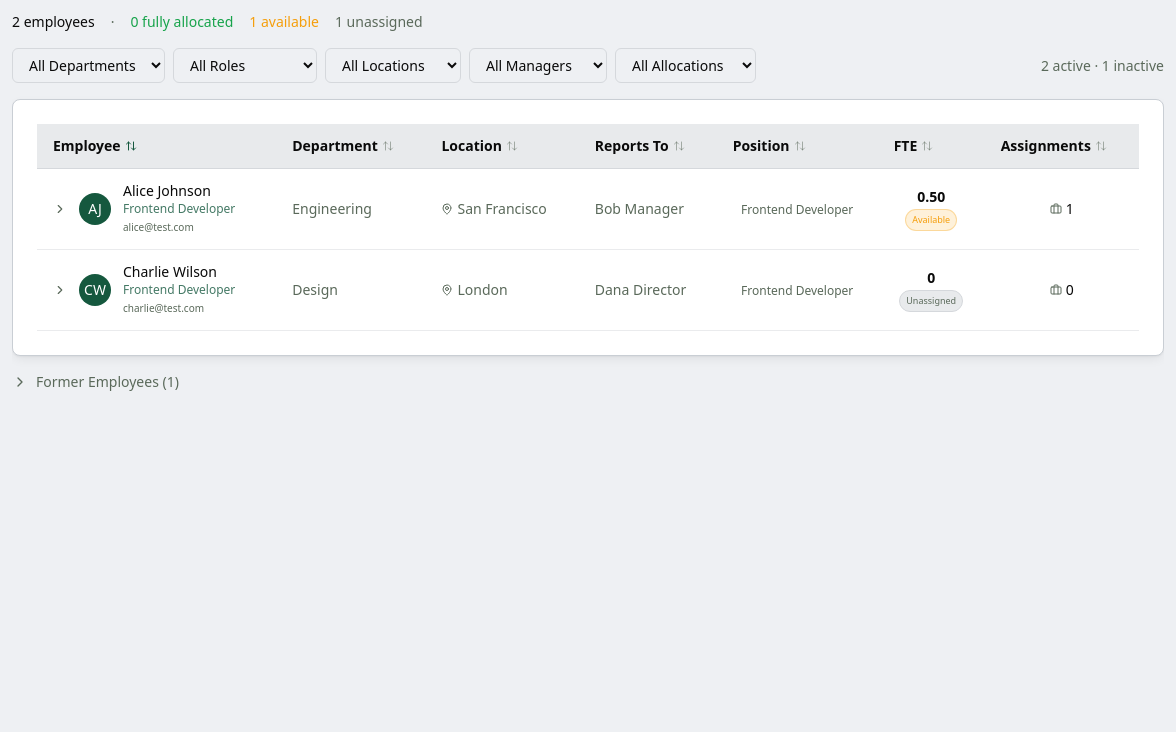
Scenario: EmployeeList › expands row to show assignment details
Note: Row 0 is header, Row 1 is Alice
Click the button named "Expand details for Alice Johnson".
click(60, 209)  # box [53,202,67,216]
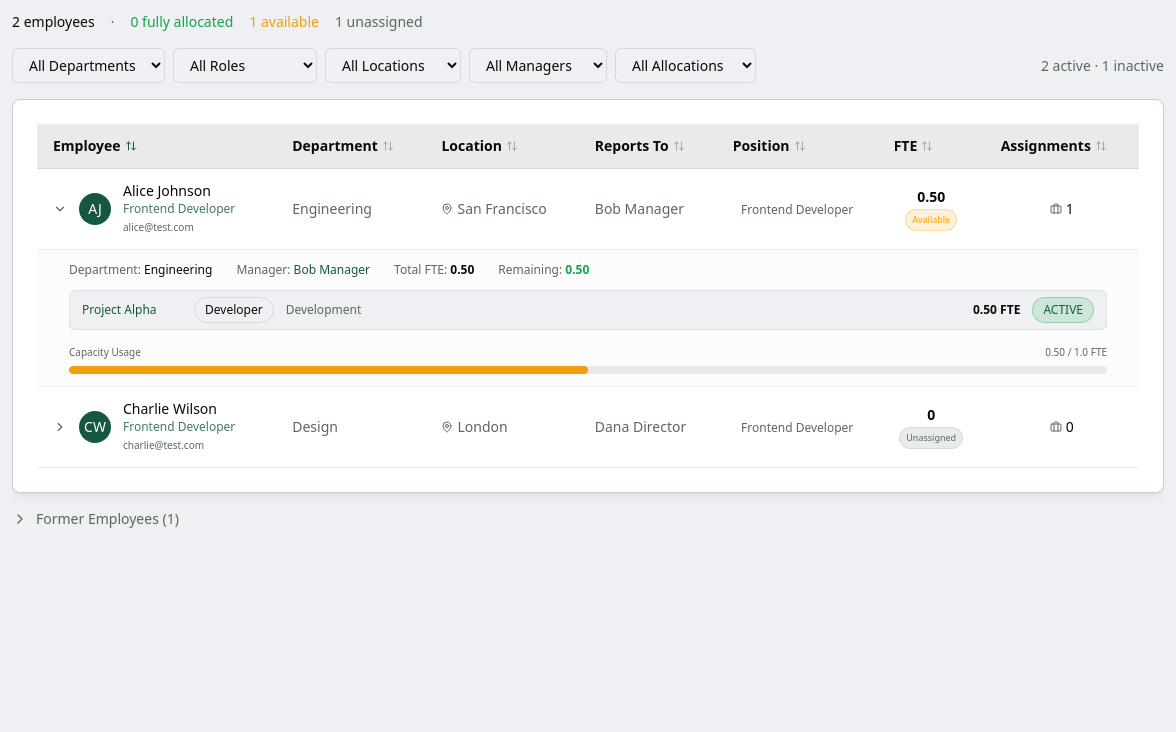
Check: the link "Project Alpha" is shown, box [82,301,157,318]
